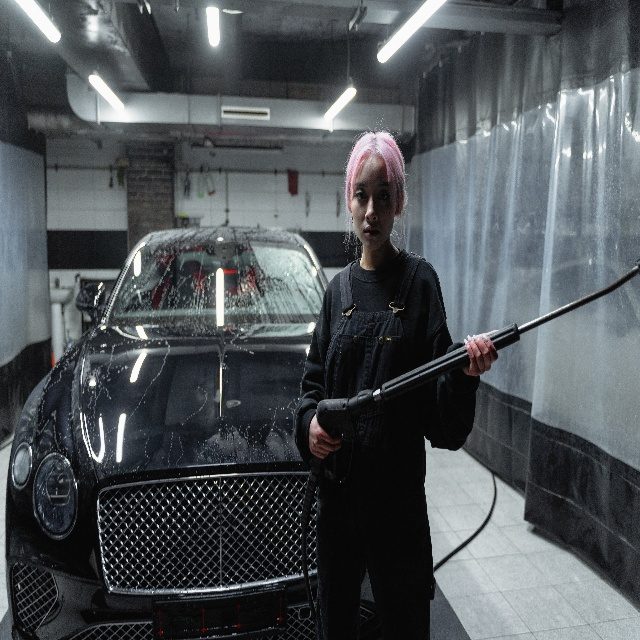Sin_guantes: (460, 324, 502, 377), (307, 413, 342, 461)
